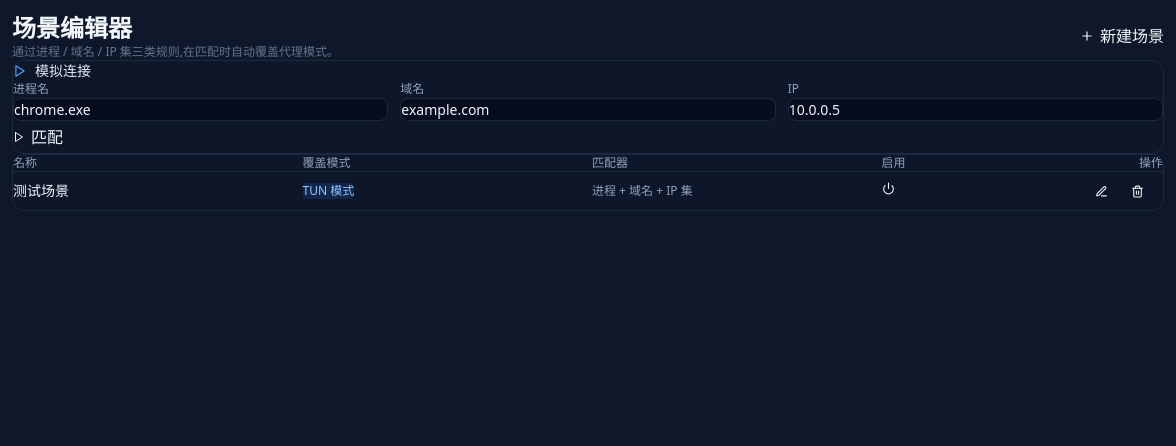
SceneEditorView — renders three matcher kinds › shows a kind badge for process / domain / ipset when all three are present
Open the editor for the seeded scene so the form is on screen.
What coordinates should you click on to do the following:
click the button with test id "scene-row-edit"
I would click on:
 (1111, 191)
Its box is [1095,175,1127,207].
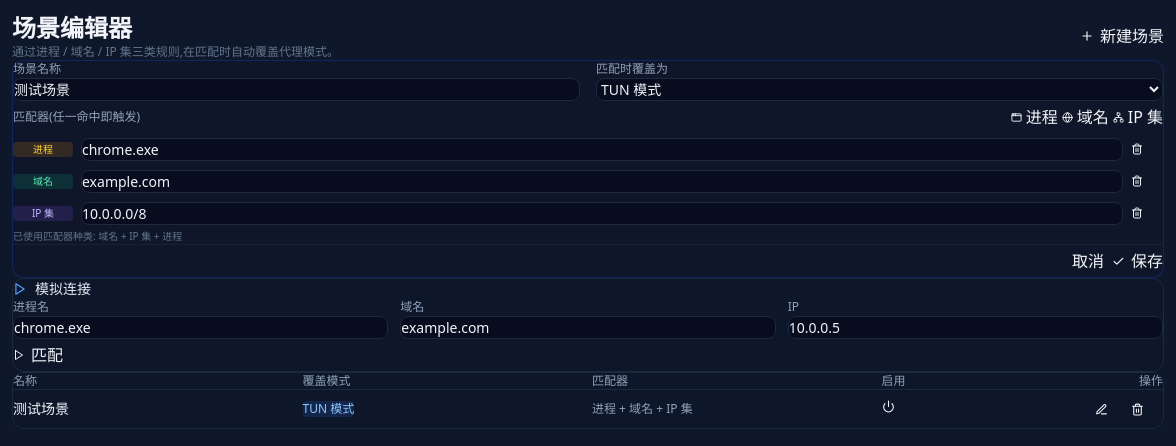
Now the number of elements with test id "scene-form-matcher" is 3, box [13,133,1163,165]; [13,165,1163,197]; [13,197,1163,229]
Now the text with test id "scene-form-kinds-summary" shows "进程", box [98,229,182,243]
Now the text with test id "scene-form-kinds-summary" shows "域名", box [98,229,182,243]
